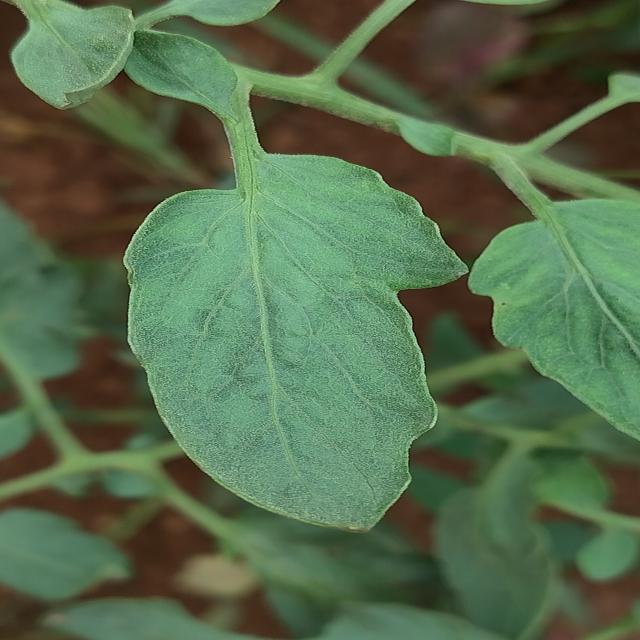tomato_healthy: (111, 140, 474, 540)
